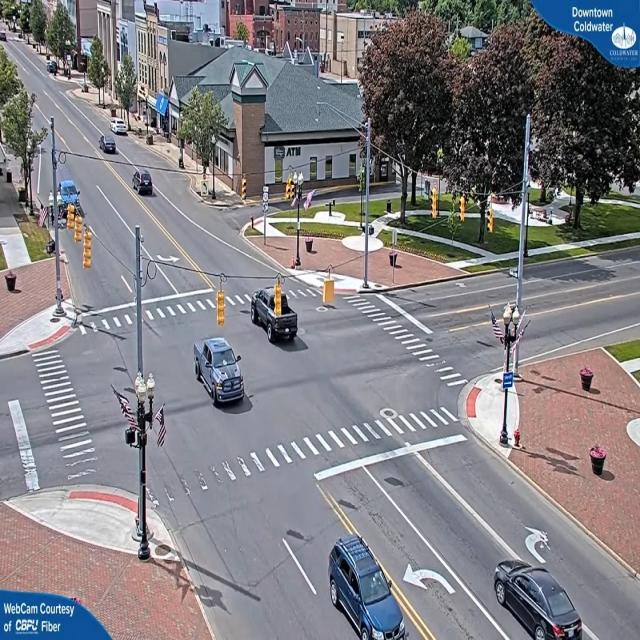car: (329, 537, 408, 640), (493, 559, 586, 640), (194, 338, 247, 409), (250, 288, 300, 348)
